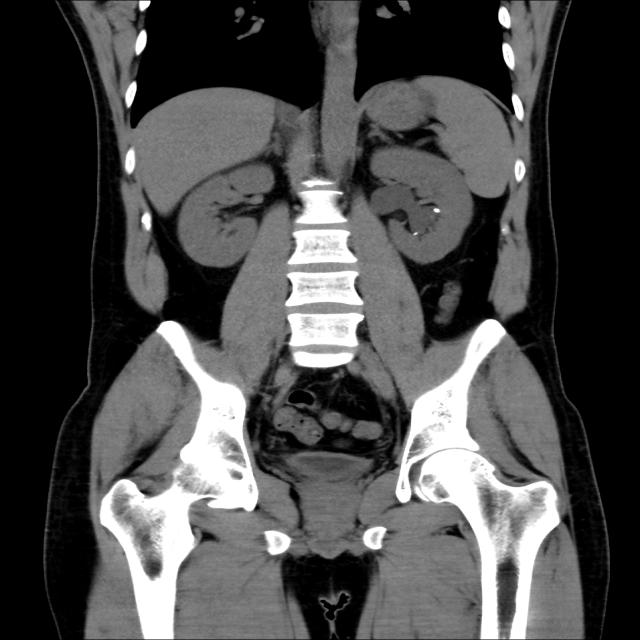kidneystone: (432, 208, 441, 214)
